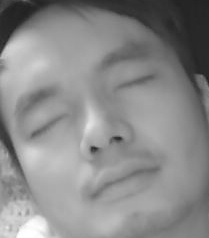blink: (116, 72, 156, 97), (31, 112, 70, 136)
mouth: (93, 157, 161, 201)
